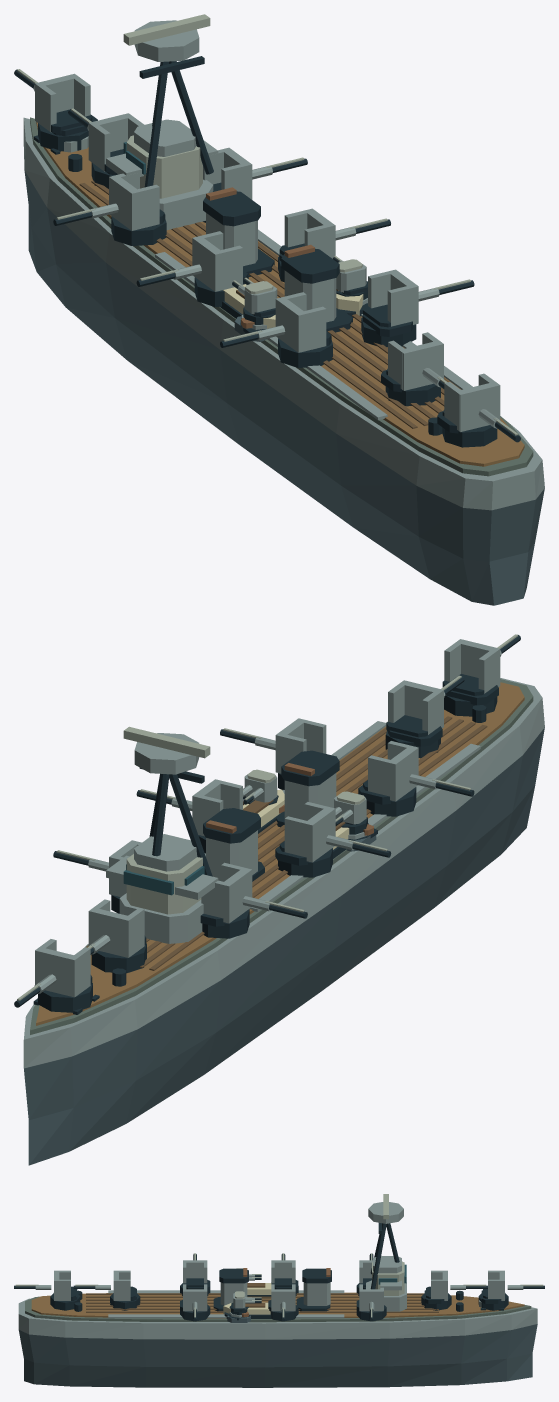
File: historic-java.glb
3 renders of one model, top to bottom at view 1: azimuth 30°, elevation 25°; view 2: azimuth 150°, elevation 25°; view 3: azimuth 270°, elevation 25°, orthographic. The views are drawn at different scales.
Visible parts, largest first — view 1: historic-java-historic-java-geometry, historic-java-part_bridge.052-geometry, historic-java-turret_main_9-geometry, historic-java-turret_main_6-geometry, historic-java-turret_main_4.004-geometry, historic-java-turret_main_3.020-geometry, historic-java-turret_main_0.042-geometry, historic-java-turret_main_2.036-geometry, historic-java-turret_main_5-geometry, historic-java-historic_funnel_1.028-geometry, historic-java-historic_funnel_0.053-geometry, historic-java-turret_main_8-geometry (+4 smaller); view 2: historic-java-historic-java-geometry, historic-java-part_bridge.052-geometry, historic-java-turret_main_5-geometry, historic-java-turret_main_6-geometry, historic-java-turret_main_3.020-geometry, historic-java-turret_main_2.036-geometry, historic-java-turret_main_0.042-geometry, historic-java-turret_main_4.004-geometry, historic-java-turret_main_1.041-geometry, historic-java-historic_funnel_0.053-geometry, historic-java-historic_funnel_1.028-geometry, historic-java-turret_main_9-geometry (+4 smaller); view 3: historic-java-historic-java-geometry, historic-java-part_bridge.052-geometry, historic-java-historic_funnel_0.053-geometry, historic-java-turret_main_2.036-geometry, historic-java-turret_main_1.041-geometry, historic-java-turret_main_3.020-geometry, historic-java-turret_main_0.042-geometry, historic-java-historic_funnel_1.028-geometry, historic-java-turret_main_9-geometry, historic-java-turret_main_7-geometry, historic-java-turret_main_8-geometry, historic-java-turret_main_6-geometry (+3 smaller).
Part boxes in pixels (x1,y1,x2,y2): historic-java-historic-java-geometry: (23, 117, 544, 605); historic-java-part_bridge.052-geometry: (106, 14, 218, 230); historic-java-turret_main_9-geometry: (361, 269, 474, 347); historic-java-turret_main_6-geometry: (220, 292, 332, 367); historic-java-turret_main_4.004-geometry: (53, 172, 166, 245); historic-java-turret_main_3.020-geometry: (437, 373, 520, 447); historic-java-turret_main_0.042-geometry: (14, 69, 97, 151); historic-java-turret_main_2.036-geometry: (381, 332, 447, 406); historic-java-turret_main_5-geometry: (136, 231, 248, 306); historic-java-historic_funnel_1.028-geometry: (281, 244, 352, 332); historic-java-historic_funnel_0.053-geometry: (203, 187, 274, 276); historic-java-turret_main_8-geometry: (278, 208, 390, 282); historic-java-historic-java-geometry: (23, 678, 544, 1165); historic-java-part_bridge.052-geometry: (106, 726, 218, 943); historic-java-turret_main_5-geometry: (275, 802, 391, 877); historic-java-turret_main_6-geometry: (358, 741, 474, 816); historic-java-turret_main_3.020-geometry: (442, 634, 520, 716); historic-java-turret_main_2.036-geometry: (385, 675, 464, 758); historic-java-turret_main_0.042-geometry: (14, 939, 92, 1012); historic-java-turret_main_4.004-geometry: (200, 862, 307, 938); historic-java-turret_main_1.041-geometry: (88, 899, 146, 973); historic-java-historic_funnel_0.053-geometry: (203, 808, 264, 881); historic-java-historic_funnel_1.028-geometry: (276, 750, 339, 827); historic-java-turret_main_9-geometry: (220, 718, 326, 790); historic-java-historic-java-geometry: (18, 1283, 537, 1387); historic-java-part_bridge.052-geometry: (366, 1194, 406, 1311); historic-java-historic_funnel_0.053-geometry: (296, 1268, 331, 1311); historic-java-turret_main_2.036-geometry: (73, 1270, 140, 1310); historic-java-turret_main_1.041-geometry: (421, 1270, 487, 1310); historic-java-turret_main_3.020-geometry: (14, 1270, 80, 1310); historic-java-turret_main_0.042-geometry: (478, 1270, 544, 1310); historic-java-historic_funnel_1.028-geometry: (213, 1268, 248, 1311); historic-java-turret_main_9-geometry: (180, 1284, 210, 1321); historic-java-turret_main_7-geometry: (356, 1284, 386, 1321); historic-java-turret_main_8-geometry: (268, 1284, 298, 1321); historic-java-turret_main_6-geometry: (180, 1253, 210, 1295).
Size of the model in its own units: 1.28 by 1.58 by 4.42.
